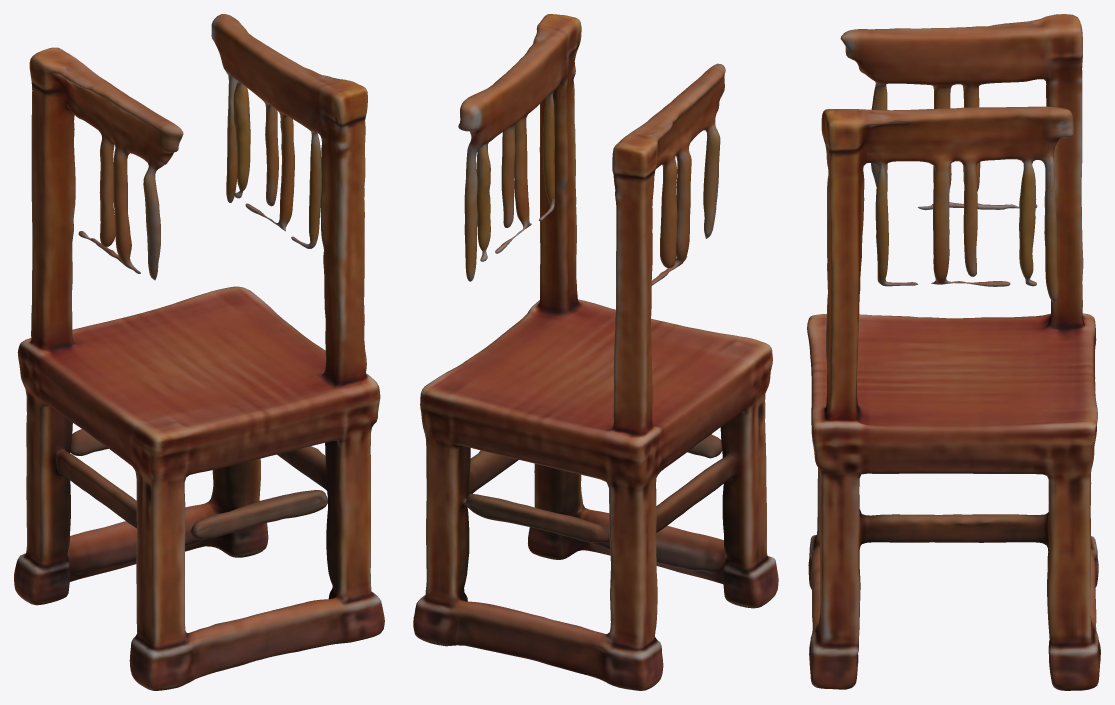
The model's file is b09f48e6da1d_wood_chair_in_paint.fbx.
The picture shows the model from 3 angles, left to right: view 1: azimuth 30°, elevation 25°; view 2: azimuth 150°, elevation 25°; view 3: azimuth 270°, elevation 25°; orthographic projection. The views are drawn at different scales.
Parts seen in each view (by area): view 1: high_poly; view 2: high_poly; view 3: high_poly.
Part boxes in pixels (x1=…): high_poly: x1=14, y1=14, x2=384, y2=690; high_poly: x1=413, y1=14, x2=778, y2=690; high_poly: x1=807, y1=14, x2=1100, y2=690.
Size of the model in its own units: 45.19 by 100 by 46.82.
